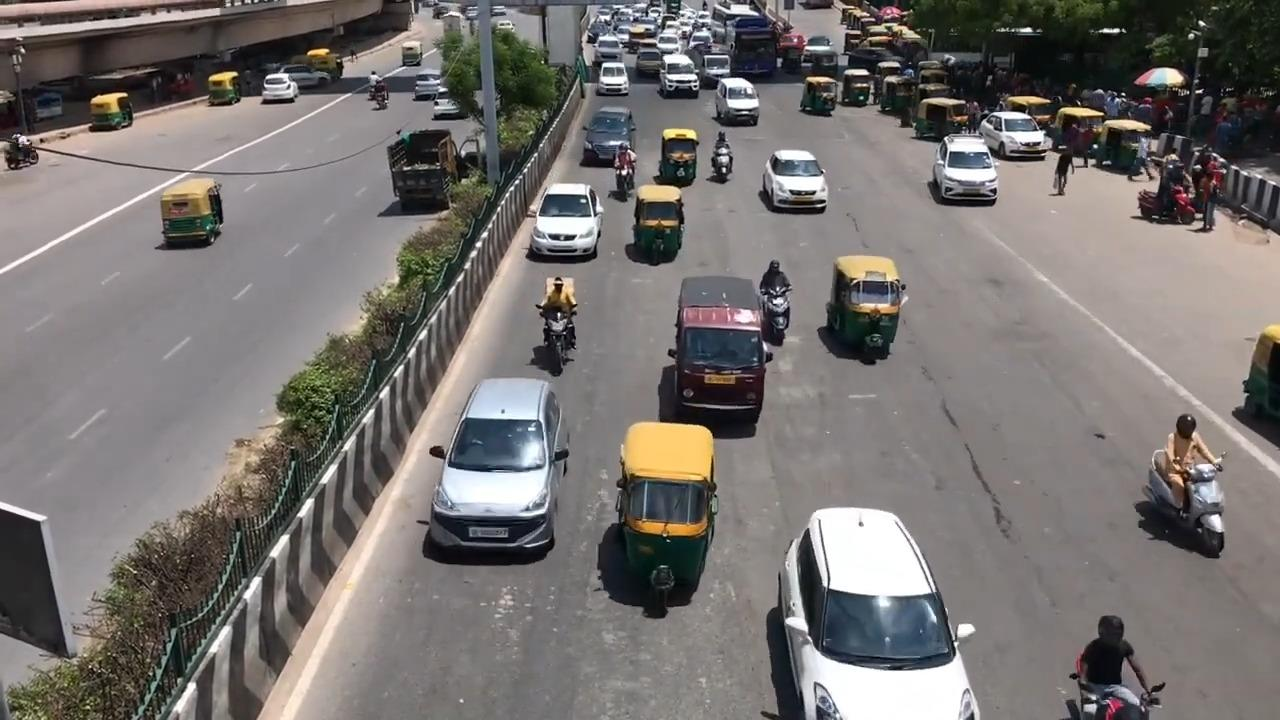Auto: (614, 424, 719, 601), (825, 254, 908, 358), (159, 177, 223, 247), (631, 184, 685, 257), (659, 127, 699, 184)
Bike: (1142, 410, 1229, 553), (1064, 604, 1165, 719), (534, 266, 584, 376), (758, 256, 800, 344), (612, 143, 637, 198), (710, 130, 733, 180)
Truck: (385, 126, 479, 209)
